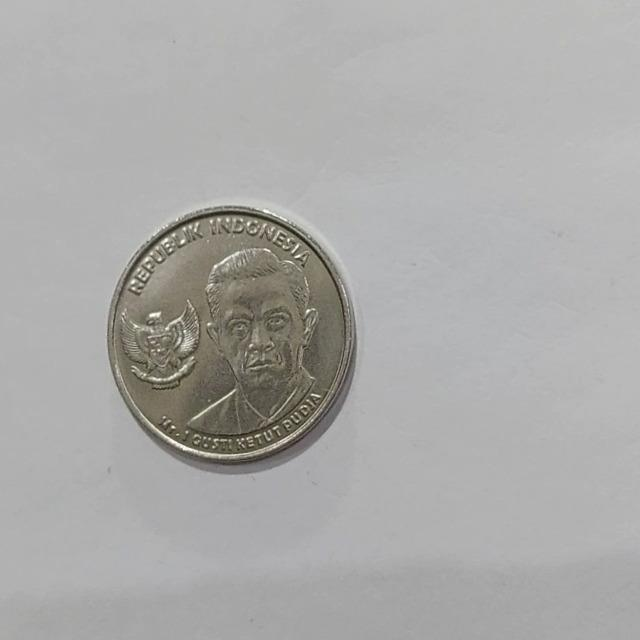Rp100: (106, 203, 357, 465), (183, 245, 323, 439)
